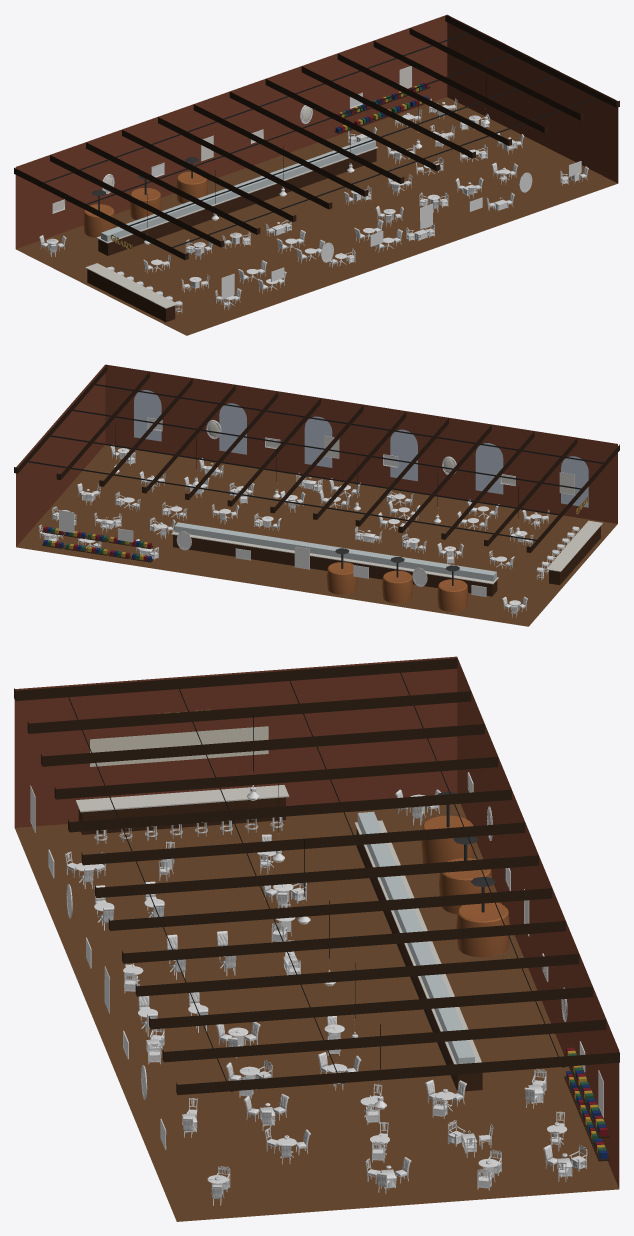
Rendered from ghirardelli_int.glb.
3 renders of one model, top to bottom at view 1: azimuth 30°, elevation 25°; view 2: azimuth 150°, elevation 25°; view 3: azimuth 270°, elevation 25°, orthographic. The views are drawn at different scales.
Parts seen in each view (by area): view 1: I_x_wood_floor, I_x_brick_old, I_x_wood_dark, I_x_veneer, I_metal, I_p_dining_chair_02__0, I_glassI, I_x_bronze, I_p_gallinera_chair__0, I_x_marble_white, I_p_painted_wooden_chair_01__0, I_p_round_wooden_table_01__0 (+8 smaller); view 2: I_x_wood_floor, I_x_brick_old, I_x_wood_dark, I_sky, I_metal, I_glassI, I_x_veneer, I_x_bronze, I_p_dining_chair_02__0, I_x_marble_white, I_p_gallinera_chair__0, I_p_painted_wooden_chair_01__0 (+10 smaller); view 3: I_x_wood_floor, I_x_wood_dark, I_x_brick_old, I_p_dining_chair_02__0, I_x_bronze, I_x_veneer, I_x_marble_white, I_p_gallinera_chair__0, I_glassI, I_screen, I_metal, I_p_painted_wooden_chair_01__0 (+5 smaller).
Boxes of the visible parts, left/top/right/bottom form: I_x_wood_floor: left=16, top=97, right=617, bottom=335; I_x_brick_old: left=15, top=14, right=618, bottom=248; I_x_wood_dark: left=14, top=15, right=619, bottom=259; I_x_veneer: left=87, top=148, right=376, bottom=322; I_metal: left=43, top=32, right=596, bottom=247; I_p_dining_chair_02__0: left=39, top=111, right=588, bottom=303; I_glassI: left=101, top=138, right=375, bottom=241; I_x_bronze: left=83, top=171, right=207, bottom=237; I_p_gallinera_chair__0: left=185, top=98, right=569, bottom=263; I_x_marble_white: left=85, top=146, right=378, bottom=308; I_p_painted_wooden_chair_01__0: left=162, top=98, right=513, bottom=310; I_p_round_wooden_table_01__0: left=151, top=114, right=510, bottom=305; I_x_wood_floor: left=16, top=445, right=617, bottom=626; I_x_brick_old: left=16, top=364, right=617, bottom=546; I_x_wood_dark: left=14, top=365, right=619, bottom=562; I_sky: left=134, top=390, right=588, bottom=507; I_metal: left=28, top=384, right=603, bottom=585; I_glassI: left=174, top=522, right=496, bottom=581; I_x_veneer: left=173, top=526, right=600, bottom=596; I_x_bronze: left=327, top=562, right=468, bottom=611; I_p_dining_chair_02__0: left=57, top=444, right=530, bottom=617; I_x_marble_white: left=171, top=520, right=602, bottom=584; I_p_gallinera_chair__0: left=48, top=452, right=454, bottom=563; I_p_painted_wooden_chair_01__0: left=38, top=465, right=549, bottom=565; I_x_wood_floor: left=15, top=803, right=618, bottom=1221; I_x_wood_dark: left=14, top=658, right=619, bottom=1161; I_x_brick_old: left=14, top=656, right=619, bottom=1188; I_p_dining_chair_02__0: left=82, top=789, right=557, bottom=1205; I_x_bronze: left=421, top=815, right=509, bottom=957; I_x_veneer: left=78, top=797, right=482, bottom=1091; I_x_marble_white: left=76, top=785, right=481, bottom=1064; I_p_gallinera_chair__0: left=124, top=882, right=587, bottom=1191; I_glassI: left=357, top=811, right=474, bottom=1064; I_screen: left=90, top=726, right=268, bottom=766; I_metal: left=68, top=673, right=565, bottom=1091; I_p_painted_wooden_chair_01__0: left=65, top=841, right=568, bottom=1183.
Size of the model in its own units: 39.86 by 6 by 23.75.
